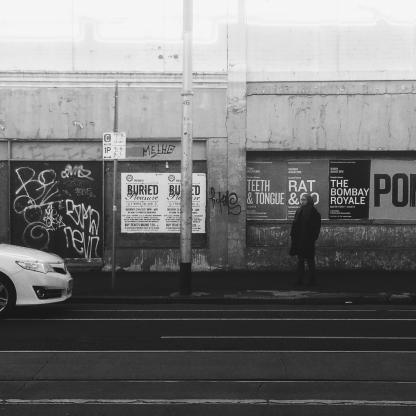Car: (4, 245, 80, 314)
